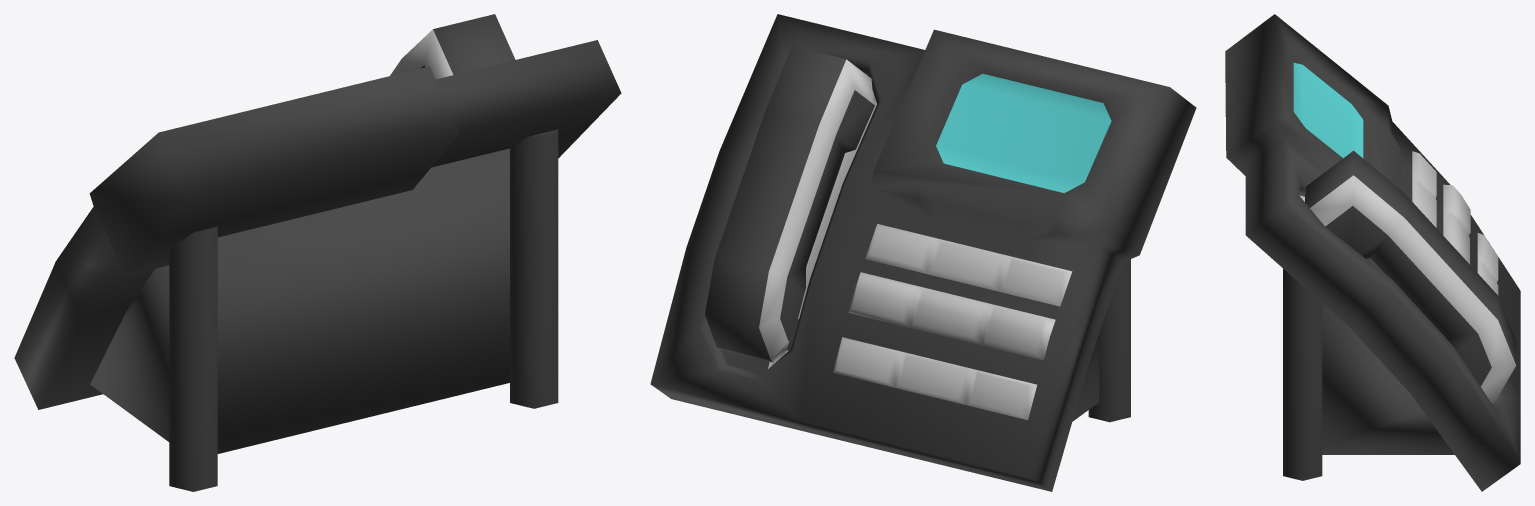
The model's file is mesh_phone_01.fbx.
3 views of the same model, side by side, from view 1: azimuth 30°, elevation 25°; view 2: azimuth 150°, elevation 25°; view 3: azimuth 270°, elevation 25° (orthographic). The views are drawn at different scales.
Parts seen in each view (by area): view 1: mesh_phone_01; view 2: mesh_phone_01; view 3: mesh_phone_01.
Part boxes in pixels (left/top/right/bottom): mesh_phone_01: left=14, top=14, right=621, bottom=491; mesh_phone_01: left=650, top=14, right=1196, bottom=491; mesh_phone_01: left=1225, top=14, right=1520, bottom=491.
Size of the model in its own units: 6.01 by 4.81 by 4.27.
